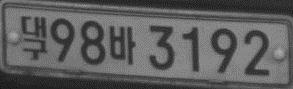1: (180, 27, 208, 71)
2: (244, 29, 270, 76)
3: (148, 24, 175, 70)
8: (80, 20, 106, 65)
9: (210, 27, 238, 74), (50, 17, 75, 61)
대구_V: (20, 15, 48, 60)
바: (109, 25, 136, 65)
